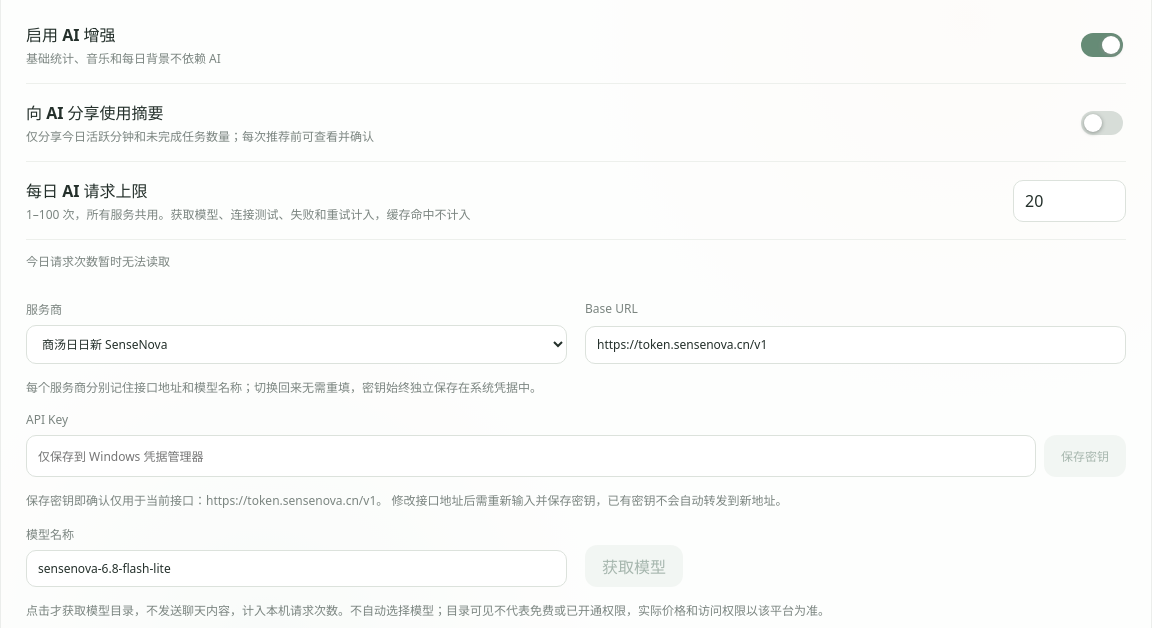
Test case: AI 设置与系统设置 › 同一服务商切换接口时不会接受旧地址的迟到密钥状态
The width and height of the screenshot is (1152, 628).
(page scrolled)
Replace the text in the field labelled "Base URL" with "https://other.example.test/v1". click: (856, 345)
box: x1=585 y1=326 x2=1126 y2=364
(page scrolled)
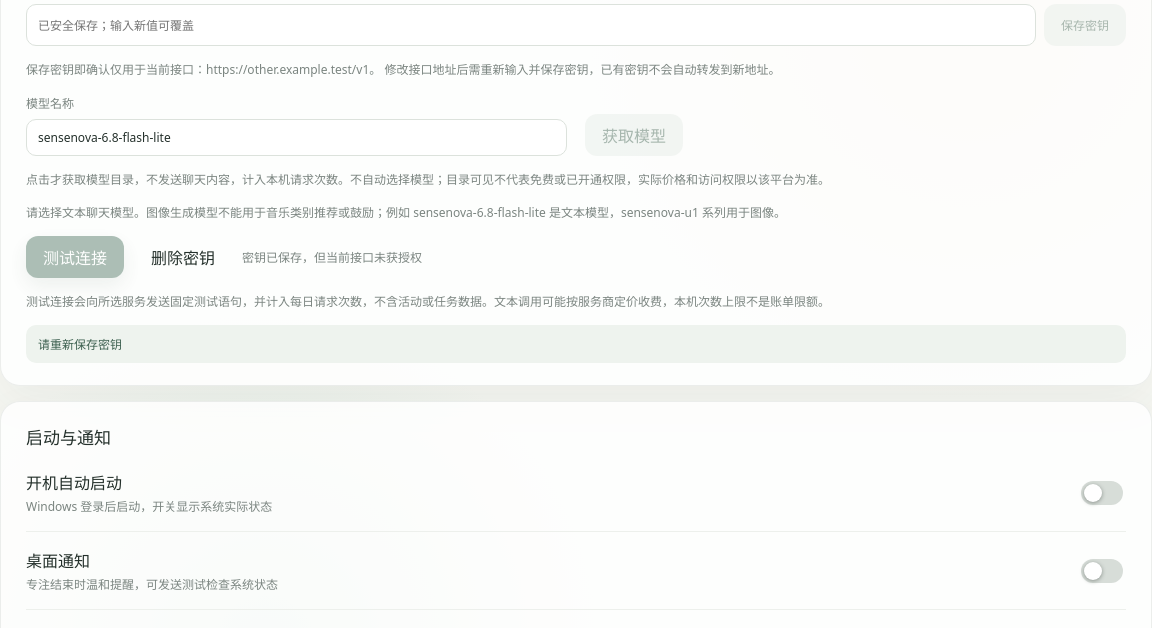
Check: the button "测试连接" is disabled, box x1=26 y1=236 x2=124 y2=278
Check: the text "密钥已保存，但当前接口未获授权" is shown, box x1=242 y1=248 x2=422 y2=266
Check: the text "请重新保存密钥" is shown, box x1=26 y1=325 x2=1126 y2=363
